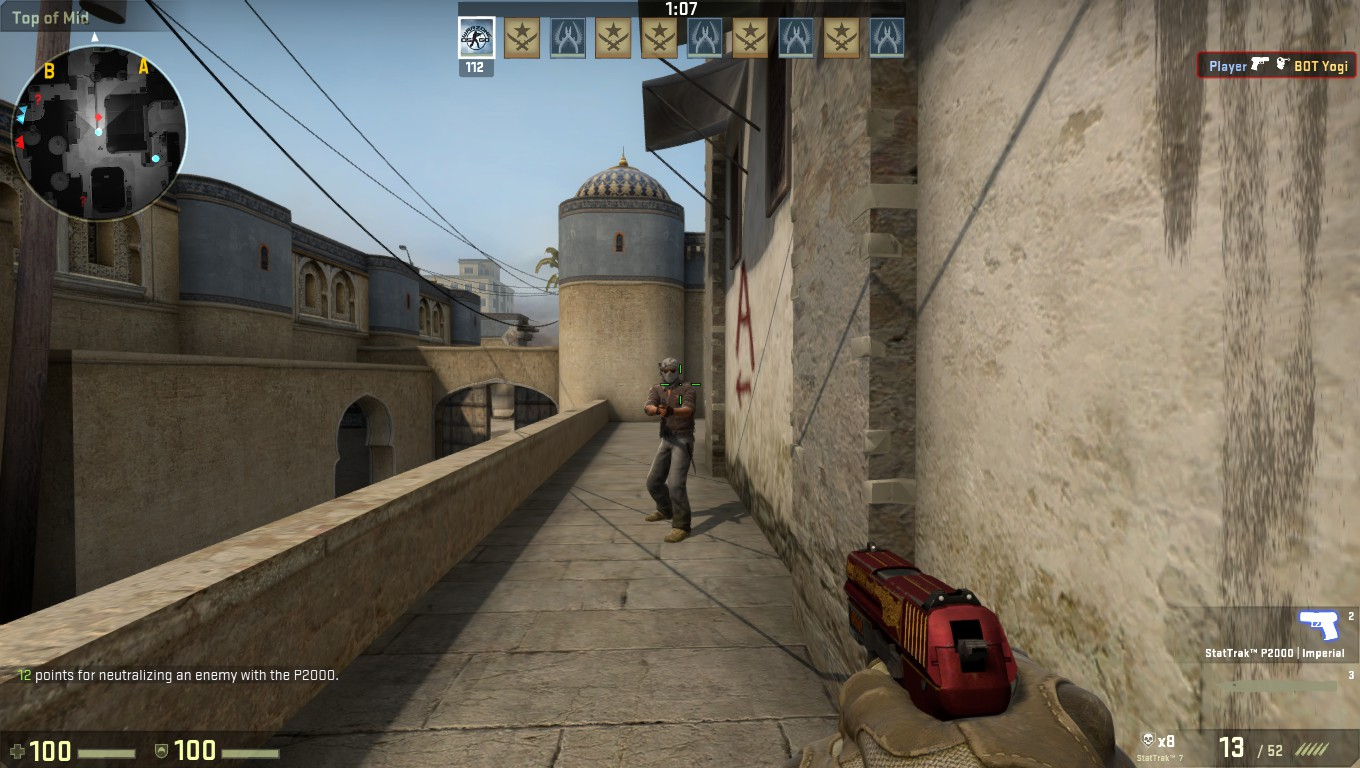t: (641, 357, 699, 544)
th: (656, 354, 683, 388)
